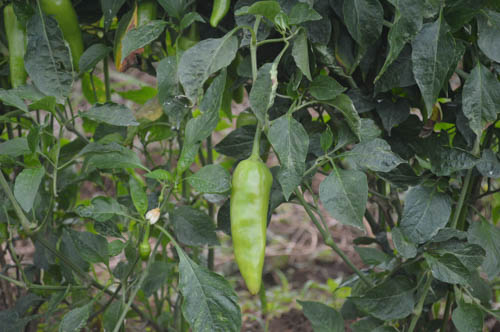ChiliPepper: (228, 163, 274, 296), (47, 2, 86, 64), (4, 6, 32, 91)
